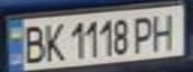1: (81, 17, 100, 57), (96, 16, 115, 56), (66, 18, 84, 60)
8: (112, 15, 133, 55)
B: (18, 21, 48, 65)
H: (148, 9, 184, 52)
K: (39, 19, 66, 62)
P: (130, 12, 160, 54)
